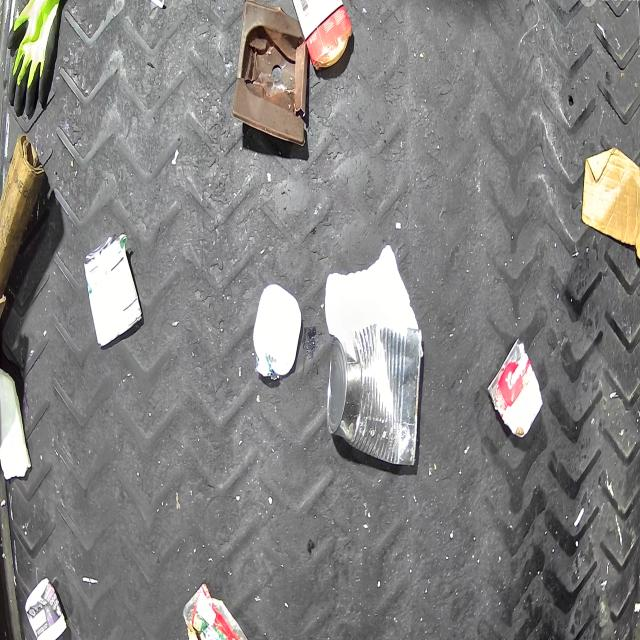can: (326, 324, 422, 466), (83, 232, 143, 350), (488, 338, 544, 438)
